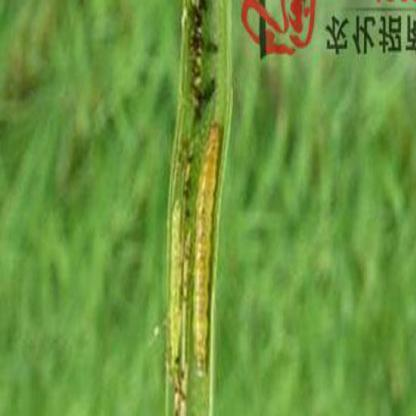leaf-folder: (162, 116, 219, 385)
